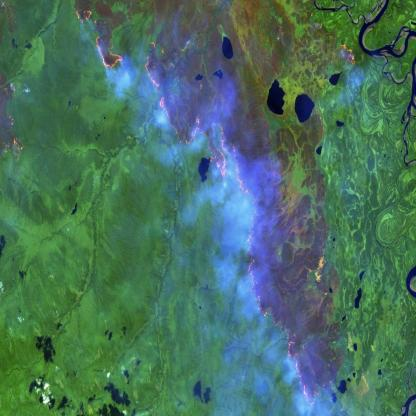fire: (75, 1, 326, 416), (336, 26, 362, 74)
